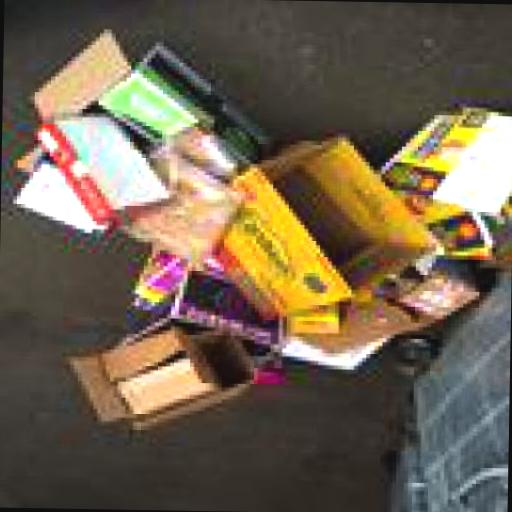cardboard: (134, 214, 485, 376), (222, 135, 446, 323), (106, 46, 276, 184), (68, 328, 262, 440), (302, 257, 484, 356), (41, 113, 174, 227), (384, 109, 512, 224), (120, 153, 246, 267), (16, 148, 118, 246), (38, 36, 135, 122), (294, 296, 424, 360), (436, 219, 508, 265)
